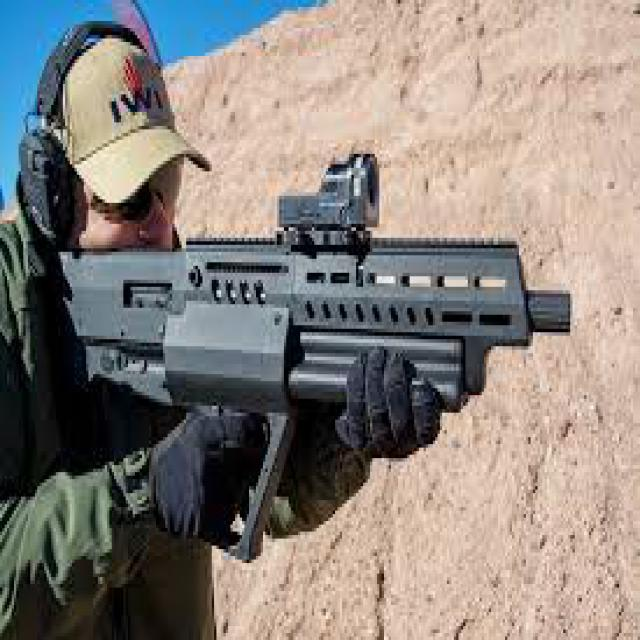long weapon: (62, 214, 591, 434)
